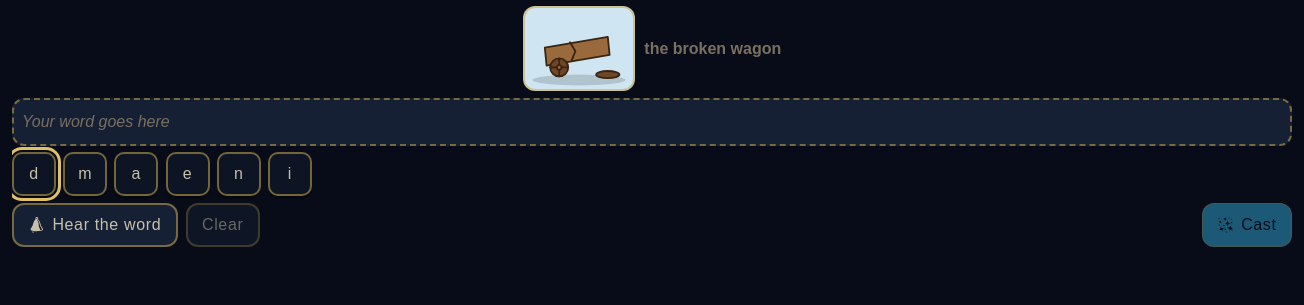
Scenario: the rune stone (R-I12) › a word already ruled out cannot be cast again: Cast is disabled and the stone says so
Expected: the text "You cast that word already. Try another." is not shown
Step 1. Click the button "m" → [85, 174], box x1=63 y1=152 x2=107 y2=196
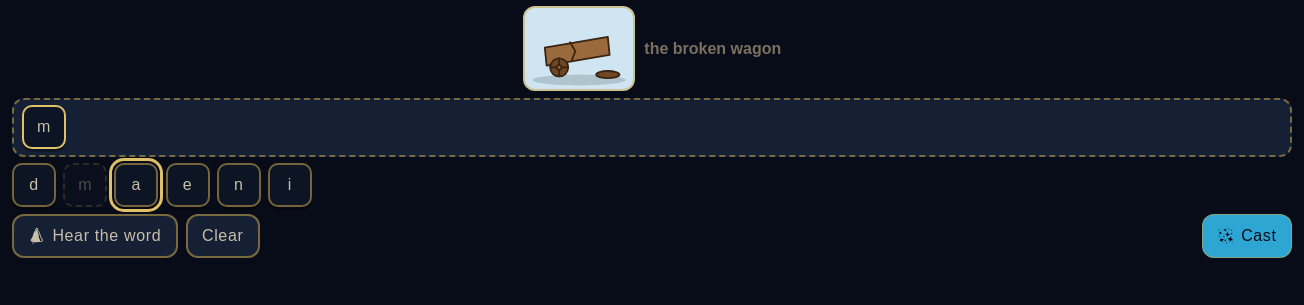
Step 2. Click the button "e" → [188, 185], box x1=166 y1=163 x2=210 y2=207
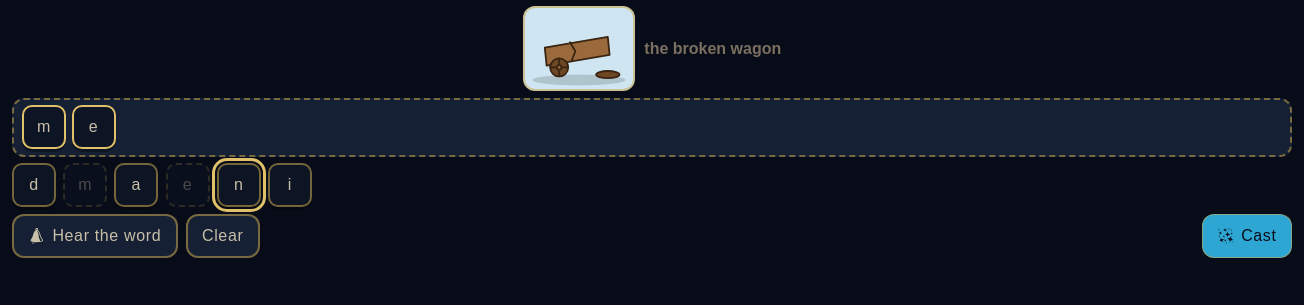
Step 3. Click the button "n" → [239, 185], box x1=217 y1=163 x2=261 y2=207
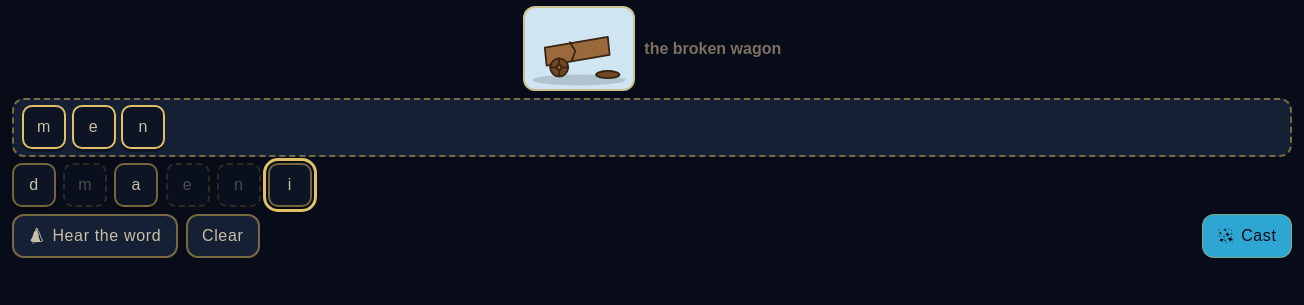
Step 4. Click the button "d" → [34, 185], box x1=12 y1=163 x2=56 y2=207
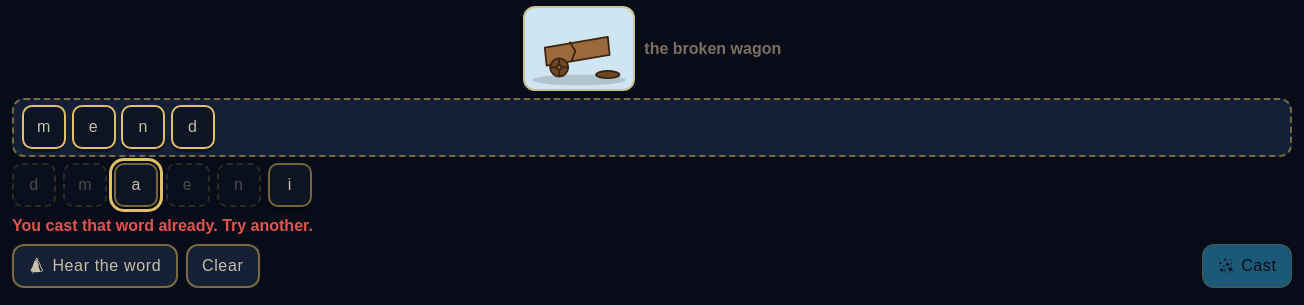
Result: the button "Cast" is disabled at x1=1202 y1=244 x2=1292 y2=288
Result: the text "You cast that word already. Try another." is shown at x1=12 y1=217 x2=313 y2=234
Step 5. Press Backspace in the button "a", box x1=114 y1=163 x2=158 y2=207
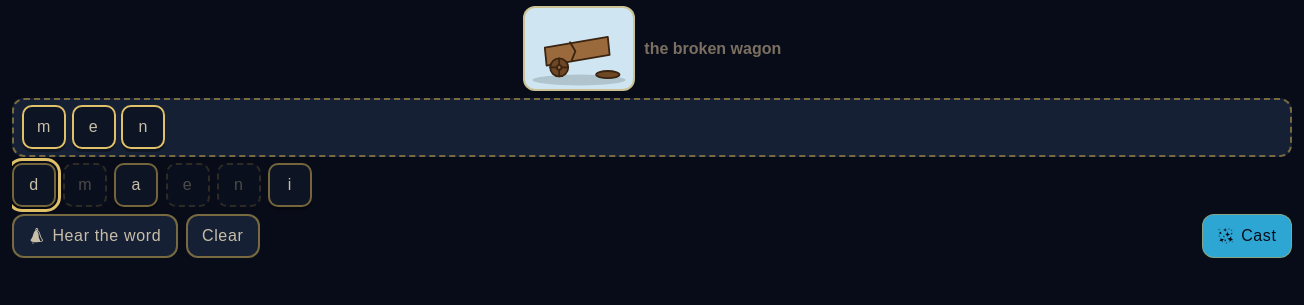
Result: the button "Cast" is enabled at x1=1202 y1=214 x2=1292 y2=258
Result: the text "You cast that word already. Try another." is gone
